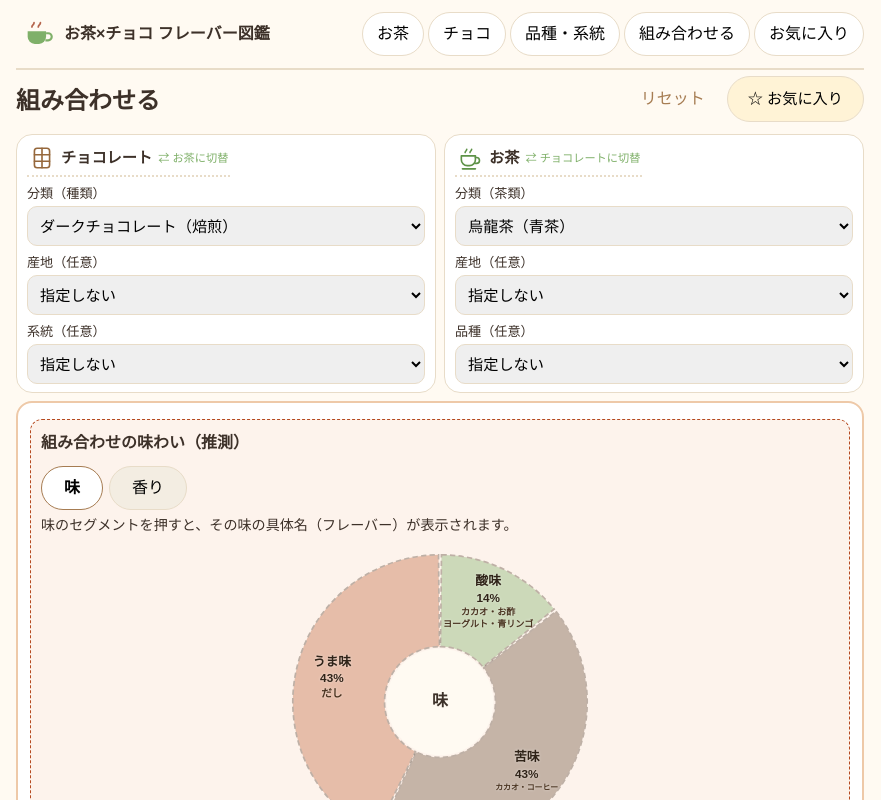
Test: 品種・系統データベースの画面連携 › 組み合わせ画面で香味データのない系統を指定すると「不使用」と表示される
Select "フォラステロ（Forastero）" in the dropdown named "カカオの系統（任意）" at (226, 364), box [27,344,425,384]
(page scrolled)
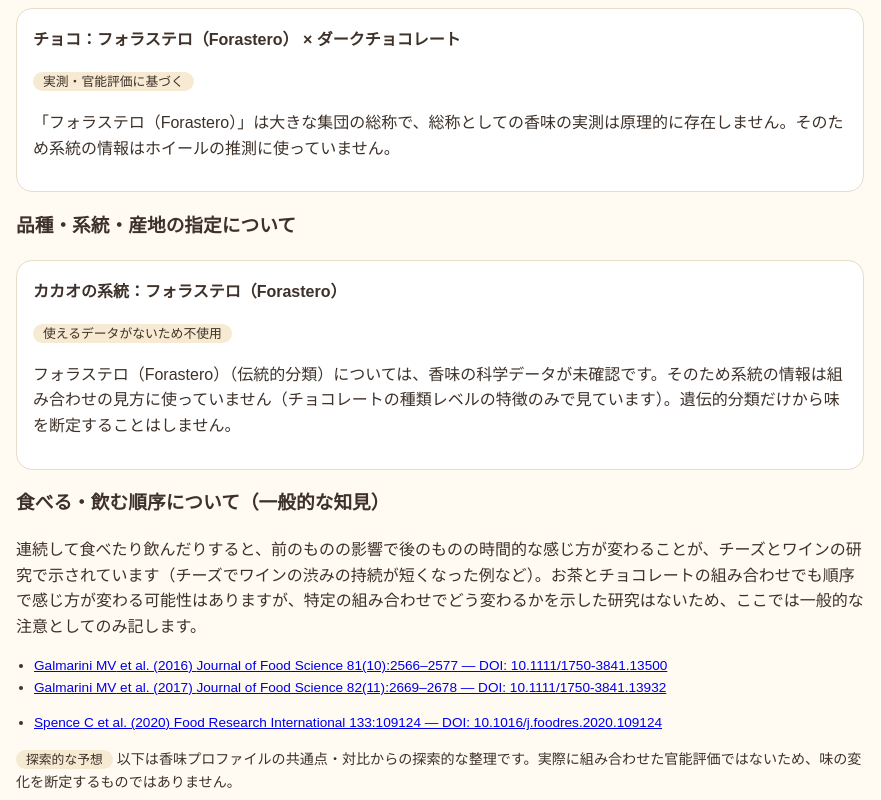
Check: the text "使えるデータがないため不使用" is shown, box [33,324,232,343]
Check: the text "未確認" is shown, box [33,362,847,439]
